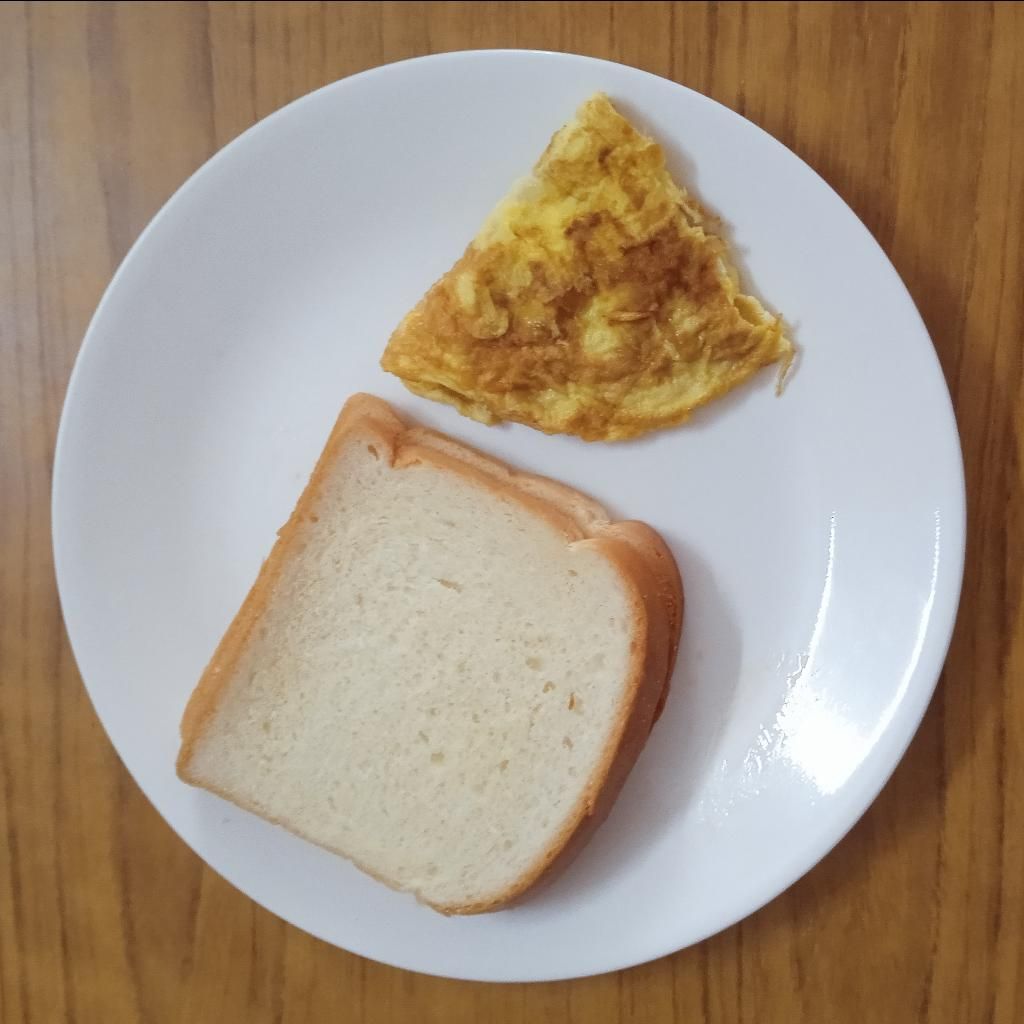bread: (175, 393, 687, 915)
egg-poached: (379, 88, 795, 441)
